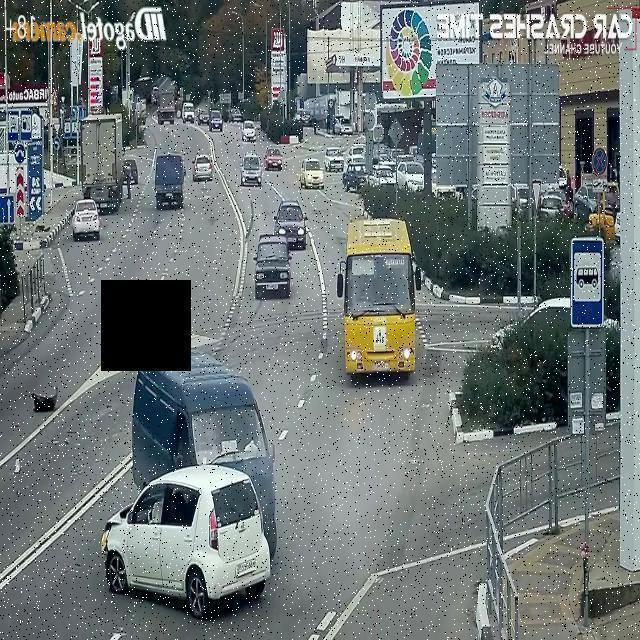accident: (95, 342, 279, 620)
